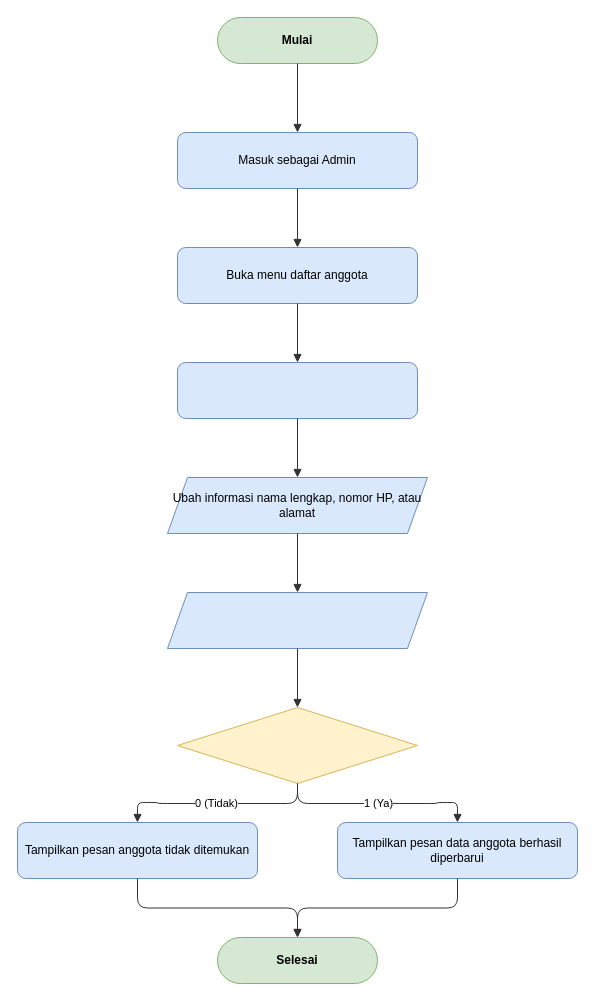
Image size: 595x1001. Some labels were removed from this diagram. Each missing label, with the centre of its shape:
"Apakah anggota tersebut ditemukan?" belongs at (x=297, y=745).
"Klik tombol simpan perubahan" belongs at (x=297, y=620).
"Pilih anggota yang ingin diubah datanya" belongs at (x=297, y=390).
